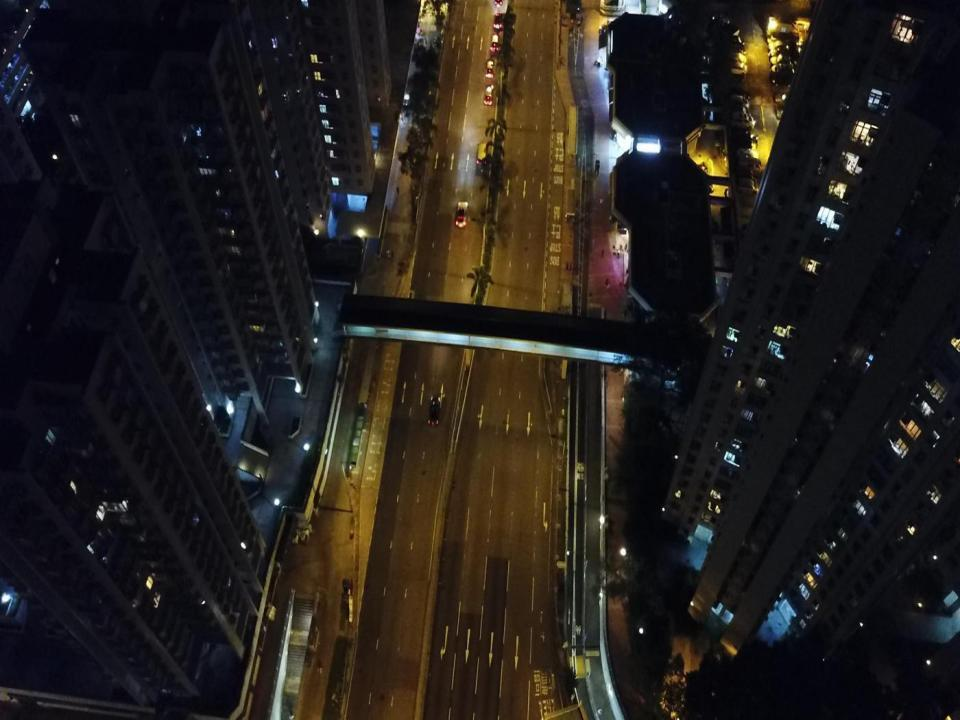car: (428, 395, 441, 426), (455, 201, 468, 228), (483, 83, 494, 106), (489, 31, 500, 53), (492, 11, 504, 31), (485, 57, 495, 78)
van: (477, 142, 488, 166)
